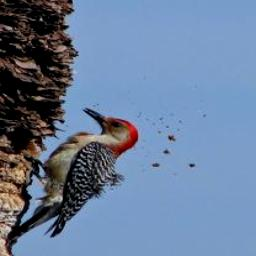Woodpecker: (4, 106, 142, 245)
